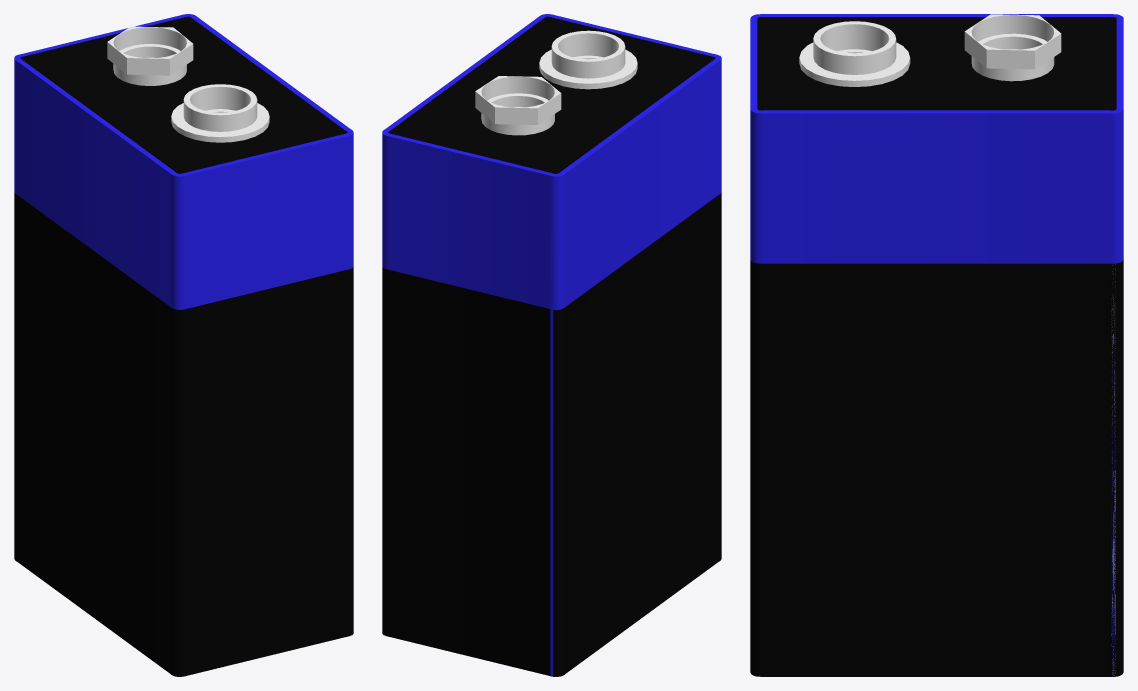
File: shootratePowerPack.fbx
3 views of the same model, side by side, from view 1: azimuth 30°, elevation 25°; view 2: azimuth 150°, elevation 25°; view 3: azimuth 270°, elevation 25° (orthographic). The views are drawn at different scales.
Visible parts, largest first — view 1: polySurface70; view 2: polySurface70; view 3: polySurface70.
Boxes of the visible parts, x1,y1,x2,y2 form: polySurface70: [14, 14, 353, 676]; polySurface70: [382, 14, 721, 676]; polySurface70: [750, 14, 1123, 676].
Bounding box in the file's own units: 5.07 × 14.14 × 8.05.
Materials: 5 (4 with a texture image).
